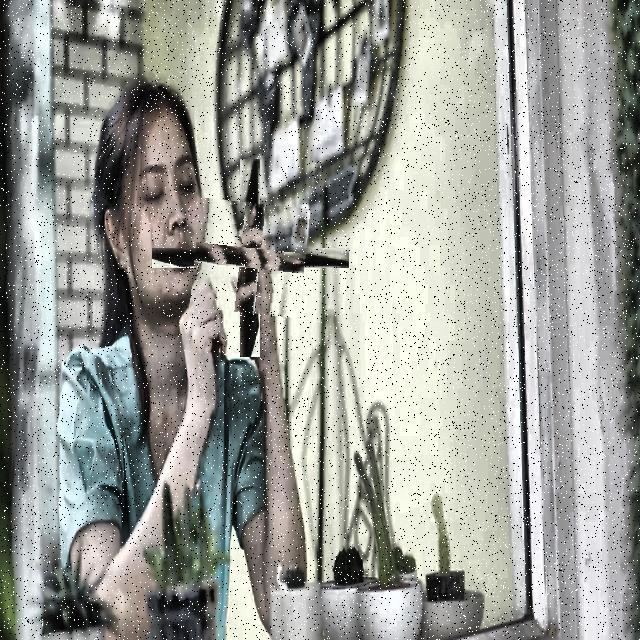Phone: (192, 200, 308, 316)
